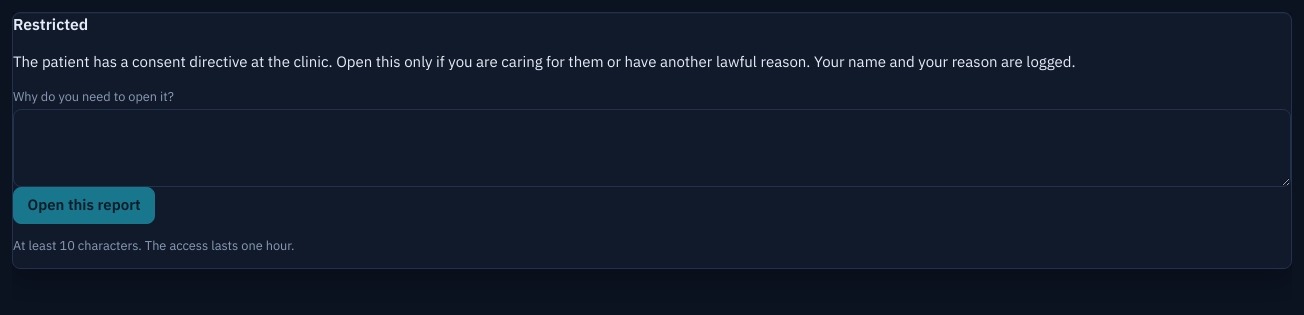
Test case: RestrictedGate › says R is restricted and shows a refusal instead of opening
expect the heading "Restricted" is shown: met, box [13,14,88,34]
Type "Covering the reader today" into the text box labelled "Why do you need to open it?" at coordinates (652, 148), box [13,109,1291,187]
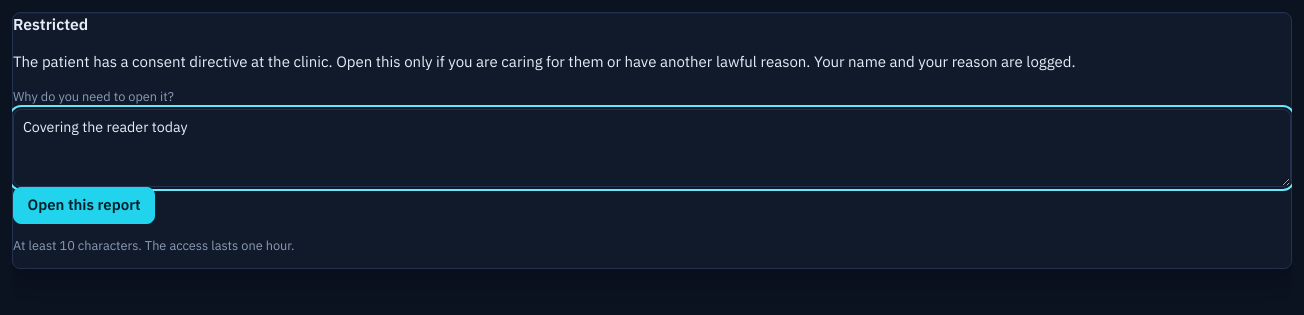
Click the button "Open this report" at coordinates (84, 205), box [13,186,155,224]
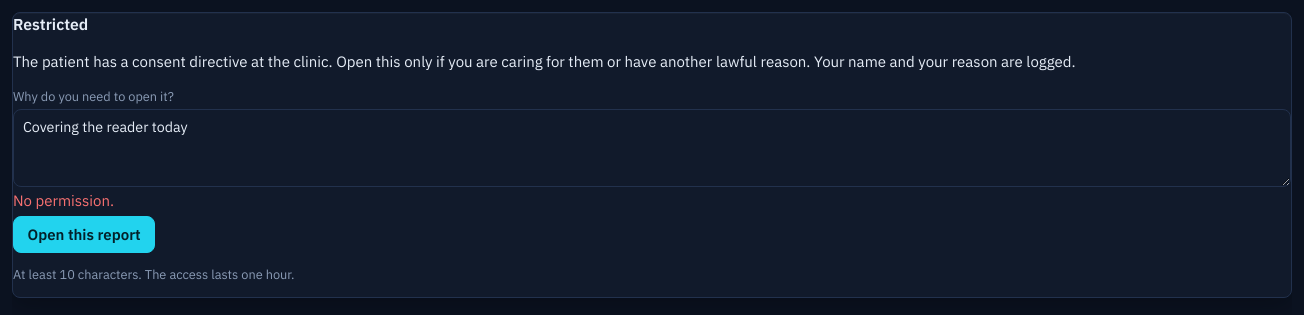
expect the message reads "No permission.": met, box [13,191,114,210]
